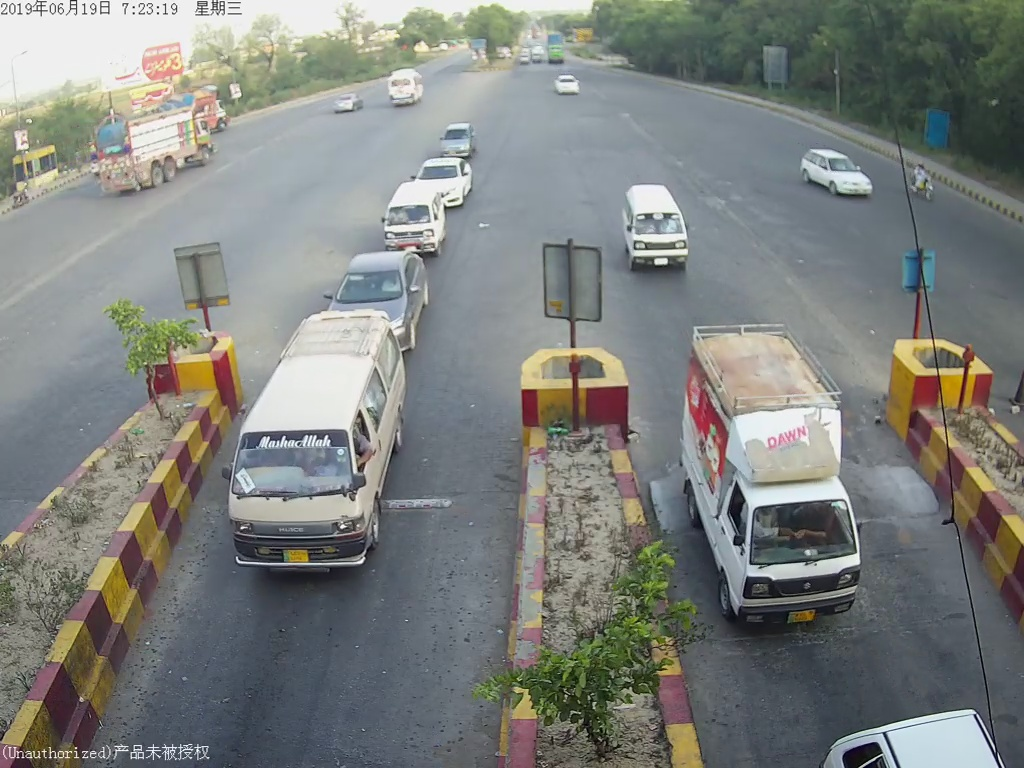Cat-1: (677, 321, 886, 641), (619, 179, 703, 290), (336, 259, 429, 312)
Cat-2: (226, 317, 400, 579)
